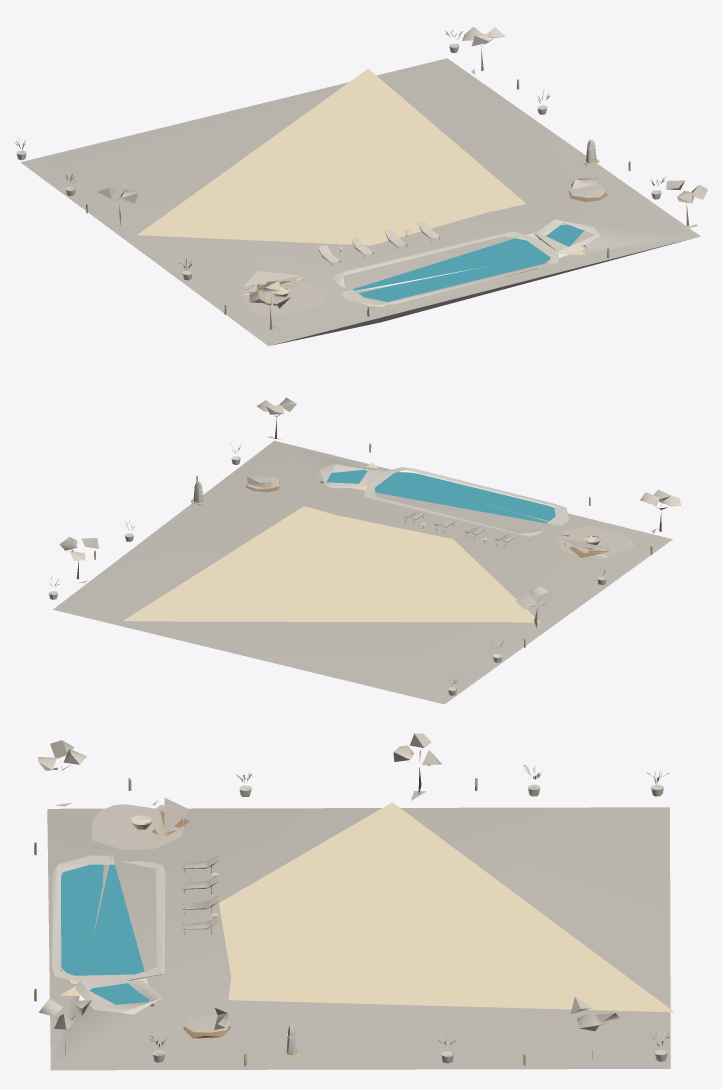
File: Villa_Core_LOD1.dae
3 views of the same model, one above another, from view 1: azimuth 30°, elevation 25°; view 2: azimuth 150°, elevation 25°; view 3: azimuth 270°, elevation 25° (orthographic). The views are drawn at different scales.
Visible parts, largest first — view 1: Site_Deck_LOD1, Site_Water_LOD1, Site_Coping_LOD1, Site_Rug_LOD1, Site_Daybed_LOD1, Site_Lounge_Sofa_LOD1, Site_Olive_1_LOD1, Site_Olive_2_LOD1; view 2: Site_Deck_LOD1, Site_Water_LOD1, Site_Coping_LOD1, Site_Rug_LOD1, Site_Lounge_Sofa_LOD1, Site_Olive_3_LOD1, Site_Olive_1_LOD1, Site_Olive_4_LOD1, Site_Daybed_LOD1; view 3: Site_Deck_LOD1, Site_Water_LOD1, Site_Coping_LOD1, Site_Rug_LOD1, Site_Daybed_LOD1, Site_Lounge_Sofa_LOD1, Site_Olive_3_LOD1, Site_Olive_1_LOD1, Site_Olive_2_LOD1, Site_Olive_4_LOD1.
Part boxes in pixels (<box>): Site_Deck_LOD1: <box>20,58,700,345</box>; Site_Water_LOD1: <box>353,224,584,301</box>; Site_Coping_LOD1: <box>333,219,600,305</box>; Site_Rug_LOD1: <box>242,281,325,314</box>; Site_Daybed_LOD1: <box>568,177,607,201</box>; Site_Lounge_Sofa_LOD1: <box>241,271,302,295</box>; Site_Olive_1_LOD1: <box>249,280,290,329</box>; Site_Olive_2_LOD1: <box>666,180,707,228</box>; Site_Deck_LOD1: <box>53,440,672,704</box>; Site_Water_LOD1: <box>327,469,555,523</box>; Site_Coping_LOD1: <box>315,463,568,536</box>; Site_Rug_LOD1: <box>554,526,634,558</box>; Site_Lounge_Sofa_LOD1: <box>558,535,611,559</box>; Site_Olive_3_LOD1: <box>515,584,554,633</box>; Site_Olive_1_LOD1: <box>640,489,681,533</box>; Site_Olive_4_LOD1: <box>59,537,98,583</box>; Site_Daybed_LOD1: <box>246,476,280,492</box>; Site_Deck_LOD1: <box>47,802,674,1070</box>; Site_Water_LOD1: <box>61,864,149,1004</box>; Site_Coping_LOD1: <box>52,855,165,1014</box>; Site_Rug_LOD1: <box>91,804,183,849</box>; Site_Daybed_LOD1: <box>183,1008,230,1038</box>; Site_Lounge_Sofa_LOD1: <box>152,798,190,842</box>; Site_Olive_3_LOD1: <box>393,733,441,800</box>; Site_Olive_1_LOD1: <box>38,740,86,806</box>; Site_Olive_2_LOD1: <box>39,998,91,1061</box>; Site_Olive_4_LOD1: <box>570,996,619,1058</box>.
Bounding box in the file's own units: 36.06 × 36.06 × 4.61.
